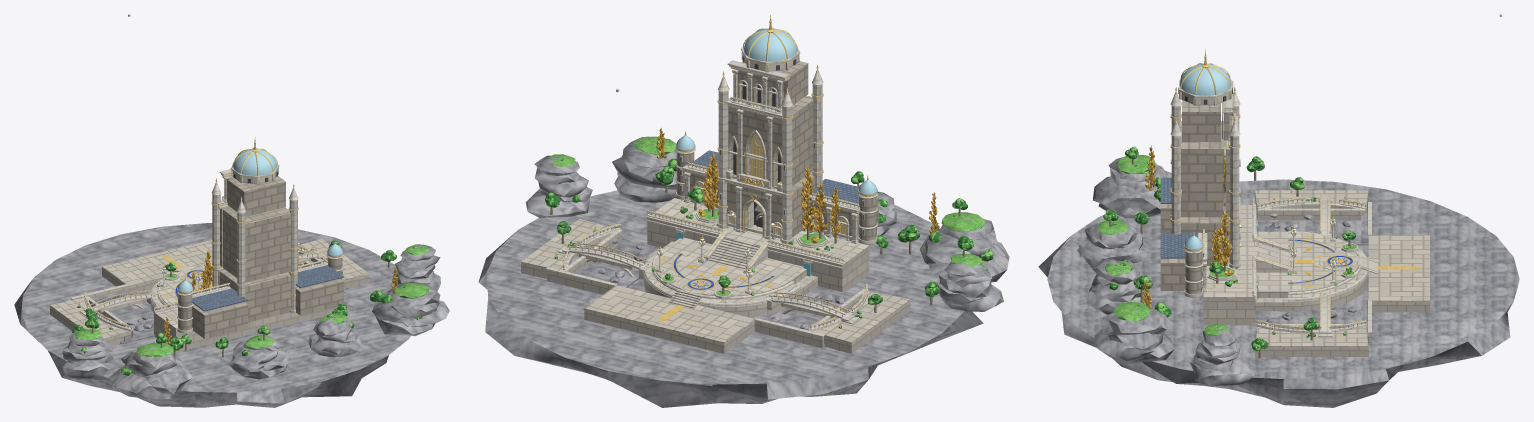
Rendered from LV10_SECAO.fbx.
3 renders of one model, left to right at view 1: azimuth 30°, elevation 25°; view 2: azimuth 150°, elevation 25°; view 3: azimuth 270°, elevation 25°, orthographic. The views are drawn at different scales.
Visible parts, largest first — view 1: RCK__agua, SMD__torre, FLR__agua, SMD__alas, SLT__torre_a, ASH__piso, GRS__agua, LFV__agua, ASH__agua, SLA__alas, SLT__agua, SLT__torre_b (+5 smaller); view 2: RCK__agua, FLR__agua, SLT__torre_a, FLL__piso, SMD__torre, ASH__agua, SLT__piso, ASH__piso, SLT__agua, SLT__torre_b, LFV__agua, SLT__alas (+14 smaller); view 3: RCK__agua, FLR__agua, SMD__torre, FLL__piso, ASH__agua, SLT__agua, SLT__torre_a, ASH__piso, SLT__piso, GRS__agua, SMD__alas, LFV__agua (+10 smaller).
Part boxes in pixels (x1,y1,x2,y2): RCK__agua: (14, 223, 449, 407); SMD__torre: (218, 176, 290, 322); FLR__agua: (50, 239, 369, 339); SMD__alas: (178, 255, 343, 338); SLT__torre_a: (211, 194, 298, 312); ASH__piso: (150, 301, 336, 352); GRS__agua: (75, 244, 429, 357); LFV__agua: (72, 240, 422, 375); ASH__agua: (50, 244, 369, 346); SLA__alas: (192, 265, 343, 311); SLT__agua: (70, 242, 327, 331); SLT__torre_b: (211, 163, 298, 224); RCK__agua: (478, 136, 1009, 407); FLR__agua: (521, 219, 910, 343); SLT__torre_a: (717, 84, 823, 243); FLL__piso: (645, 198, 869, 308); SMD__torre: (727, 61, 815, 238); ASH__agua: (521, 231, 910, 353); SLT__piso: (643, 208, 844, 307); ASH__piso: (643, 219, 869, 317); SLT__agua: (546, 223, 868, 336); SLT__torre_b: (717, 46, 823, 151); LFV__agua: (545, 145, 993, 328); SLT__alas: (675, 144, 877, 244); RCK__agua: (1038, 140, 1519, 407); FLR__agua: (1255, 190, 1429, 346); SMD__torre: (1175, 100, 1230, 265); FLL__piso: (1203, 205, 1377, 298); ASH__agua: (1255, 192, 1429, 356); SLT__agua: (1256, 196, 1371, 337); SLT__torre_a: (1170, 106, 1240, 268); ASH__piso: (1203, 274, 1368, 325); SLT__piso: (1207, 198, 1368, 302); GRS__agua: (1097, 141, 1229, 336); SMD__alas: (1160, 204, 1203, 294); LFV__agua: (1103, 146, 1346, 351).
Bounding box in the file's own units: 218 × 165 × 204.
25 materials, 15 textured.
